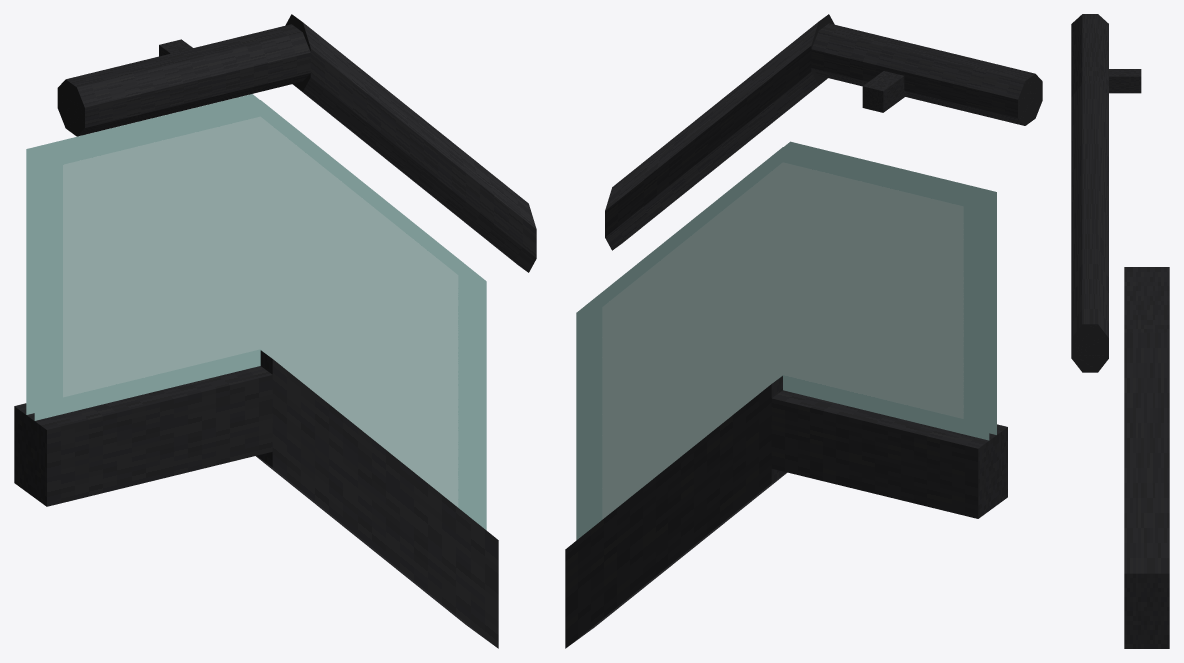
The model's file is top_neg.obj.
3 renders of one model, left to right at view 1: azimuth 30°, elevation 25°; view 2: azimuth 150°, elevation 25°; view 3: azimuth 270°, elevation 25°, orthographic. The views are drawn at different scales.
Parts seen in each view (by area): view 1: railing_glass_black_top_neg; view 2: railing_glass_black_top_neg; view 3: railing_glass_black_top_neg.
Part boxes in pixels (box(x1,y1,x2,y2)): railing_glass_black_top_neg: box(14, 14, 536, 648); railing_glass_black_top_neg: box(565, 14, 1042, 648); railing_glass_black_top_neg: box(1071, 14, 1169, 648).
Bounding box in the file's own units: 1 × 1.49 × 0.2707.
